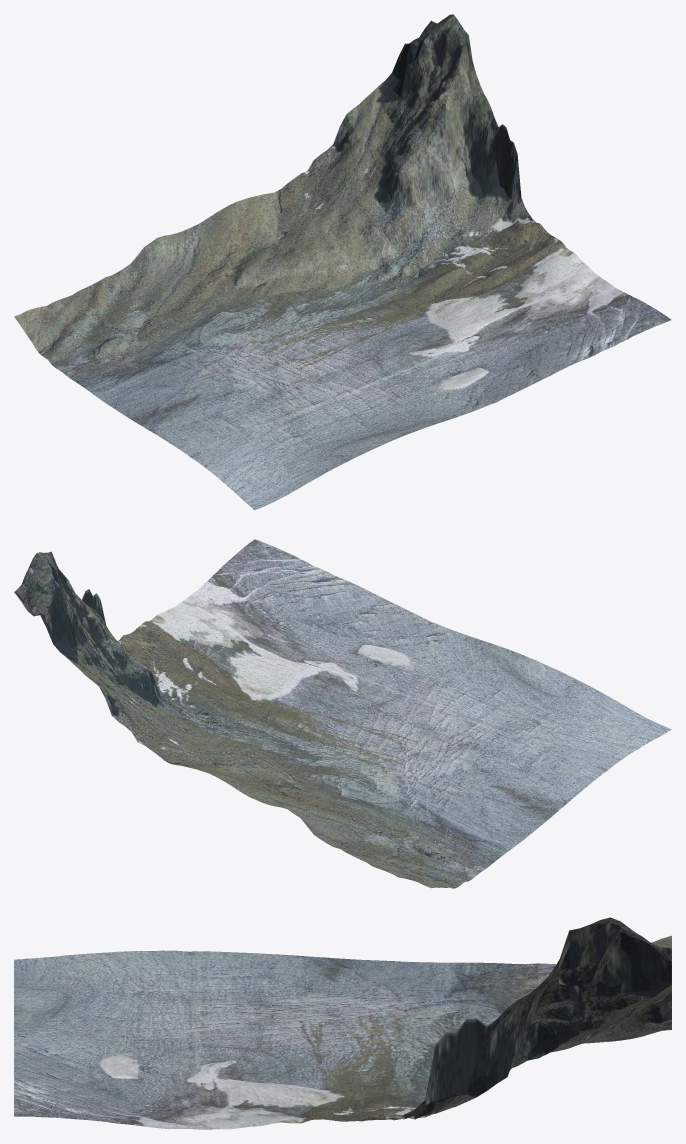
The model's file is Silv_tile_10.gltf.
3 views of the same model, one above another, from view 1: azimuth 30°, elevation 25°; view 2: azimuth 150°, elevation 25°; view 3: azimuth 270°, elevation 25° (orthographic). The views are drawn at different scales.
Visible parts, largest first — view 1: 18.026; view 2: 18.026; view 3: 18.026.
Boxes of the visible parts, left/top/right/bottom form: 18.026: left=14, top=14, right=671, bottom=510; 18.026: left=14, top=539, right=671, bottom=888; 18.026: left=14, top=917, right=671, bottom=1129.
Size of the model in its own units: 0.5 by 0.2725 by 0.5.
1 material, 1 textured.
